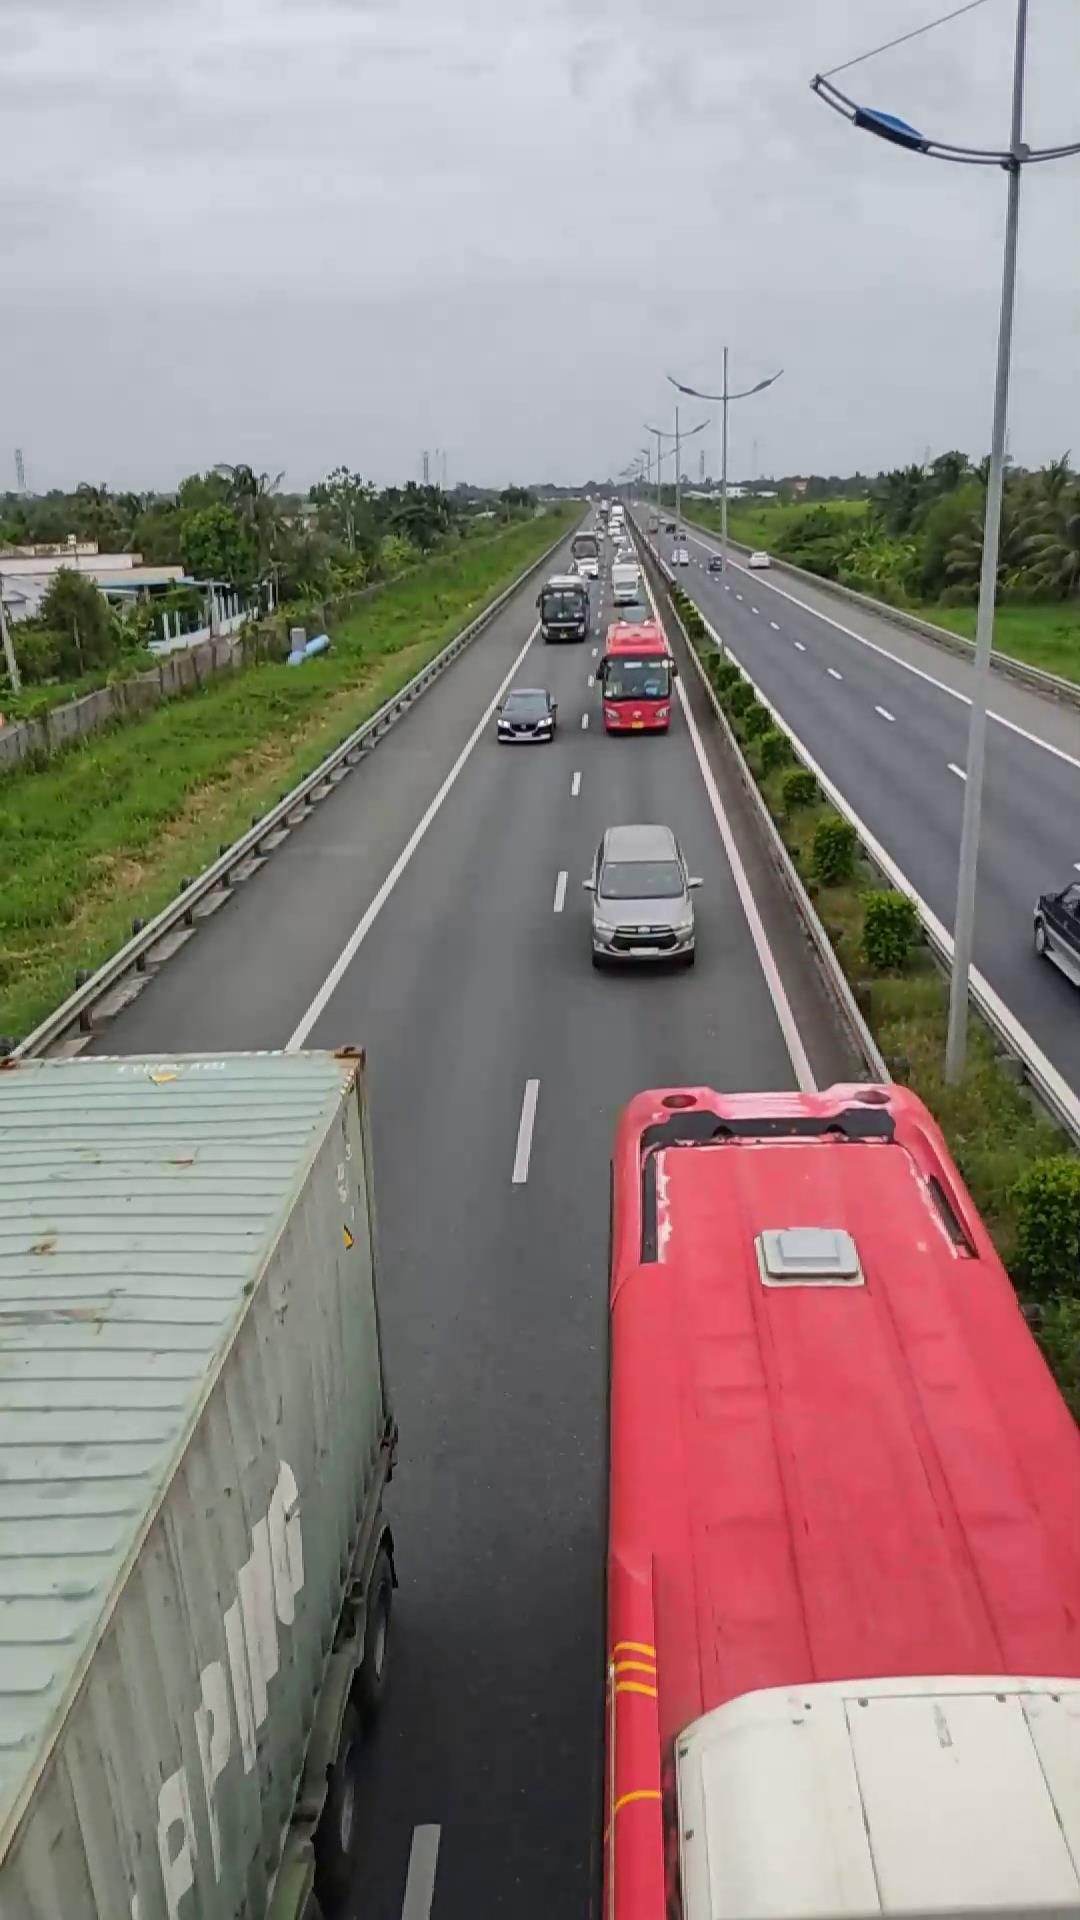bus: (609, 1082, 1080, 1914)
car: (578, 822, 700, 967)
container: (0, 1040, 411, 1917)
